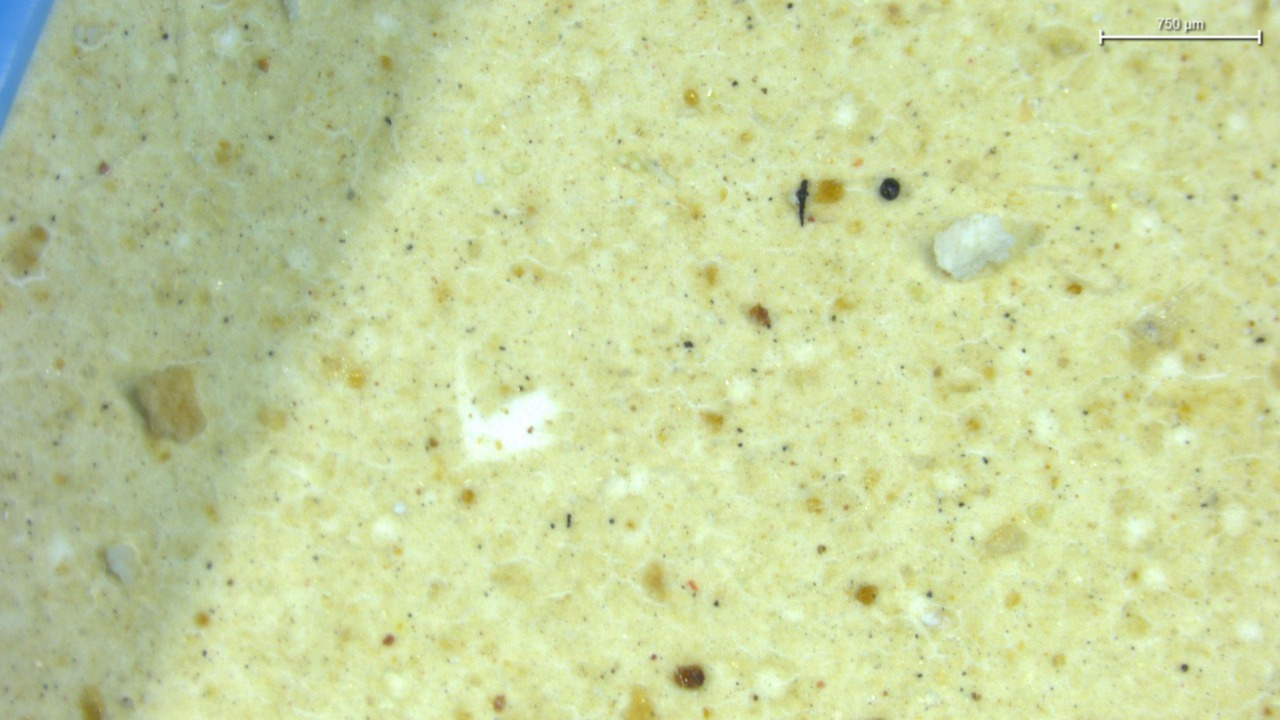microplastic_fragment: (122, 369, 207, 458), (933, 213, 1007, 282), (105, 544, 141, 585)
